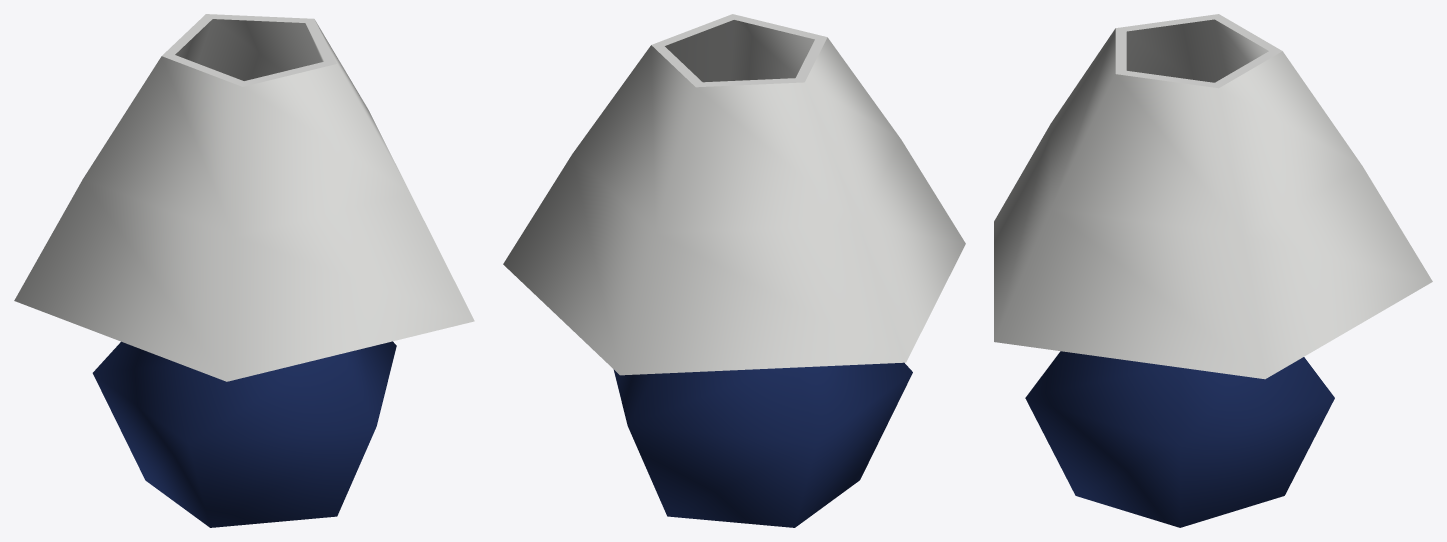
Rendered from lamparaporfavor.fbx.
3 renders of one model, left to right at view 1: azimuth 30°, elevation 25°; view 2: azimuth 150°, elevation 25°; view 3: azimuth 270°, elevation 25°, orthographic.
Parts seen in each view (by area): view 1: Tube001; view 2: Tube001; view 3: Tube001.
Part boxes in pixels (x1=…): Tube001: x1=14, y1=14, x2=474, y2=527; Tube001: x1=503, y1=14, x2=965, y2=527; Tube001: x1=994, y1=14, x2=1432, y2=527.
Size of the model in its own units: 78.61 by 81.09 by 74.76.
